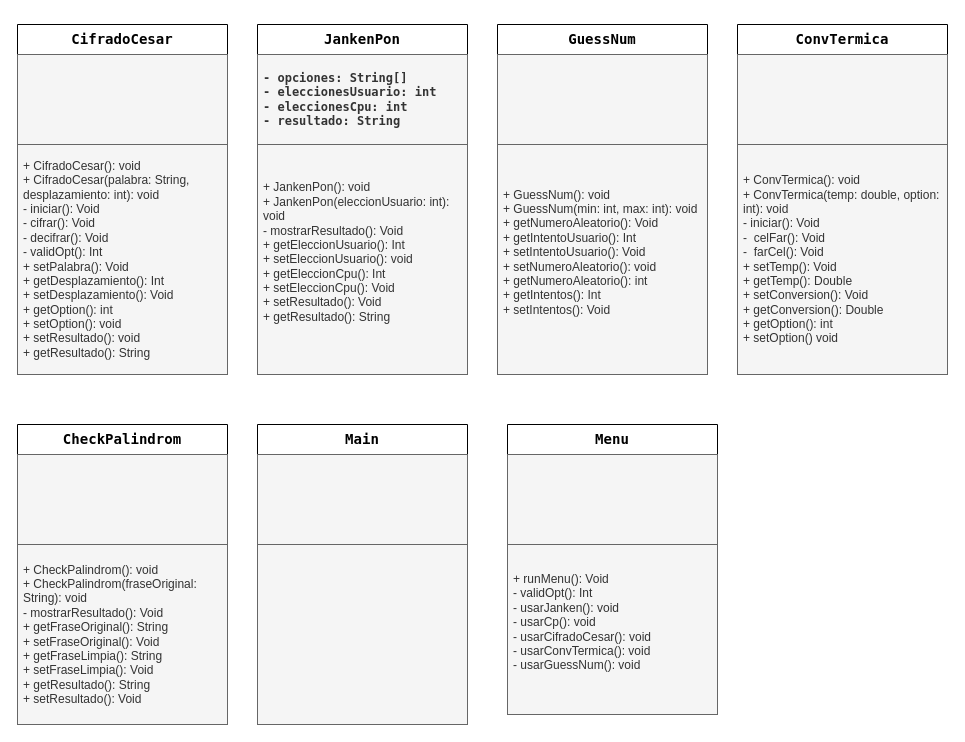
Some shapes in this 965 by 742 pixel diagram are drawn without their labels. Each missing label, with the centre of its shape:
"+ main(args: String[]): void" belongs at (362,634).
"+ scanner: Scanner" belongs at (612,499).
"- exit: boolean" belongs at (362,499).
"- fraseOriginal: String - fraseLimpia: String - resultado: String" belongs at (122,499).
"- numeroAleatorio: Int - intentoUsuario: Int - victory: boolean - intentos: int" belongs at (602,99).
"- palabra : String - desplazamiento: Int - resultado: String - option: int" belongs at (122,99).
"- temp: Double - conversion: Double - option: int" belongs at (842,99).
